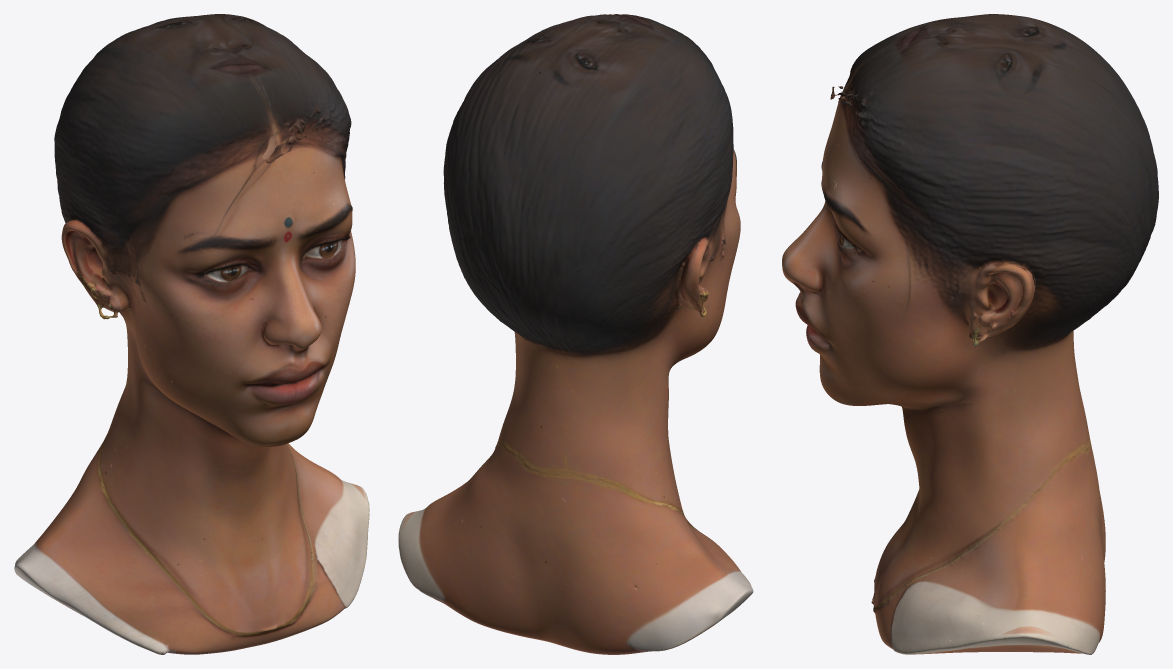
File: Meshy_AI_A_highly_detailed_3D__0329142719_texture.glb
3 views of the same model, side by side, from view 1: azimuth 30°, elevation 25°; view 2: azimuth 150°, elevation 25°; view 3: azimuth 270°, elevation 25° (orthographic). The views are drawn at different scales.
Bounding box in the file's own units: 1.25 × 2.01 × 1.17.
1 material, 1 textured.
